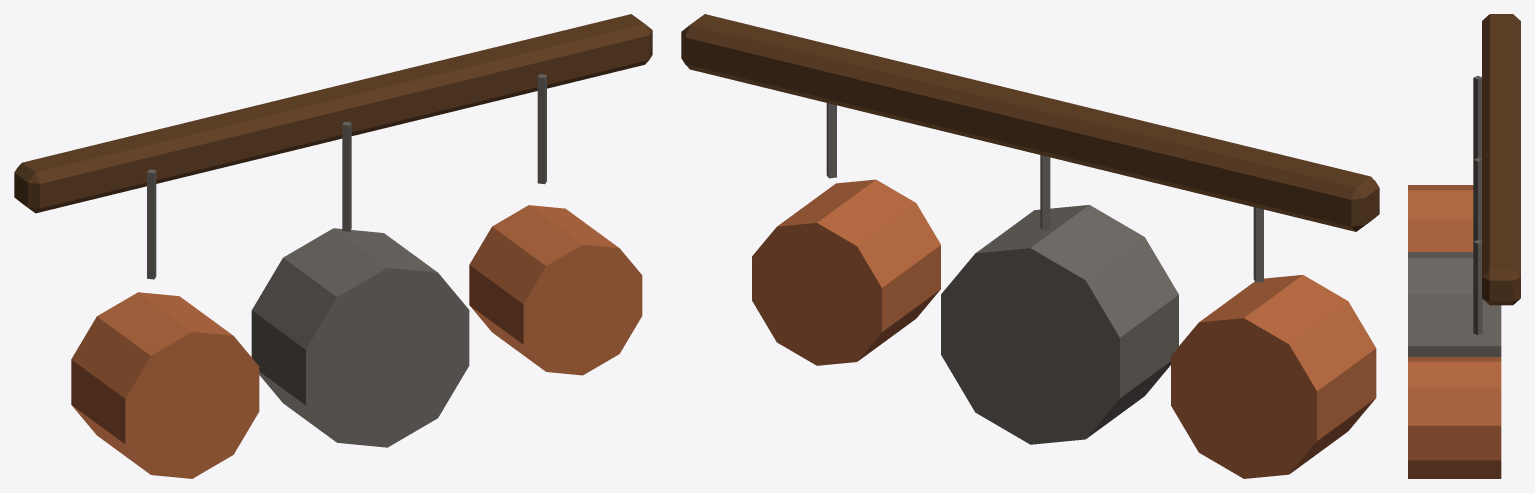
Rendered from PR_Decor_Tencere.fbx.
3 renders of one model, left to right at view 1: azimuth 30°, elevation 25°; view 2: azimuth 150°, elevation 25°; view 3: azimuth 270°, elevation 25°, orthographic. The views are drawn at different scales.
Visible parts, largest first — view 1: PR_Decor_Tencere; view 2: PR_Decor_Tencere; view 3: PR_Decor_Tencere.
Boxes of the visible parts, x1,y1,x2,y2 form: PR_Decor_Tencere: [14, 14, 652, 478]; PR_Decor_Tencere: [681, 14, 1379, 478]; PR_Decor_Tencere: [1408, 14, 1520, 478].
Size of the model in its own units: 0.8 by 0.385 by 0.145.
1 material, 1 textured.
